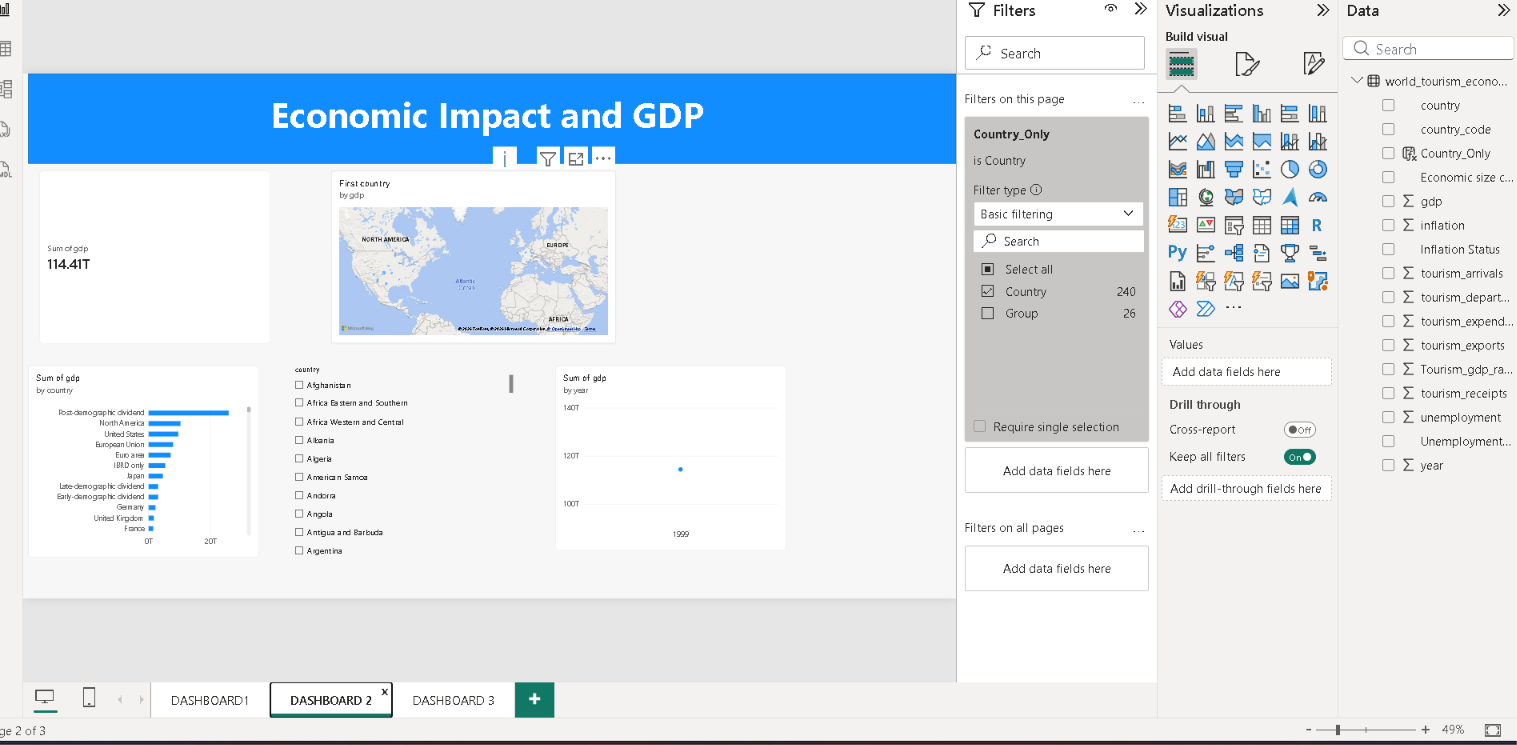

This screenshot's page, from the dashboard's own definition file:
{"tool":"powerbi","page":{"name":"DASHBOARD 2","canvas":[1920,1080],"ordinal":1},"visuals":[{"type":"shape","box":[10.3,0,1910.1,185.2],"z":0},{"type":"textbox","box":[0,35,1910,185],"z":1},{"type":"cardVisual","fields":{"Data":["Sum(world_tourism_economy_data.gdp)"]},"box":[32.9,199.7,475.5,356.1],"z":2},{"type":"clusteredBarChart","fields":{"Category":["world_tourism_economy_data.country"],"Y":["Sum(world_tourism_economy_data.gdp)"]},"box":[10.3,601,475.5,395.2],"z":3},{"type":"slicer","fields":{"Values":["world_tourism_economy_data.country"]},"box":[551.6,601,456.9,395.2],"z":4},{"type":"lineChart","fields":{"Category":["world_tourism_economy_data.year"],"Y":["Sum(world_tourism_economy_data.gdp)"]},"box":[1095,601,475.5,380.8],"z":5},{"type":"filledMap","fields":{"Category":["world_tourism_economy_data.gdp"]},"box":[634,199.7,586.6,356.1],"z":6}]}

Visuals, with their boxes on the page's 1920x1080 design canvas (x1, y1, x2, y2). These are canvas units, not pixel positions in the 1517x745 screenshot, which may show the page scaled, cropped or inside an application window:
shape: l=10, t=0, r=1920, b=185
textbox: l=0, t=35, r=1910, b=220
cardVisual - Sum(world_tourism_economy_data.gdp): l=33, t=200, r=508, b=556
clusteredBarChart - world_tourism_economy_data.country x Sum(world_tourism_economy_data.gdp): l=10, t=601, r=486, b=996
slicer - world_tourism_economy_data.country: l=552, t=601, r=1008, b=996
lineChart - world_tourism_economy_data.year x Sum(world_tourism_economy_data.gdp): l=1095, t=601, r=1570, b=982
filledMap - world_tourism_economy_data.gdp: l=634, t=200, r=1221, b=556
